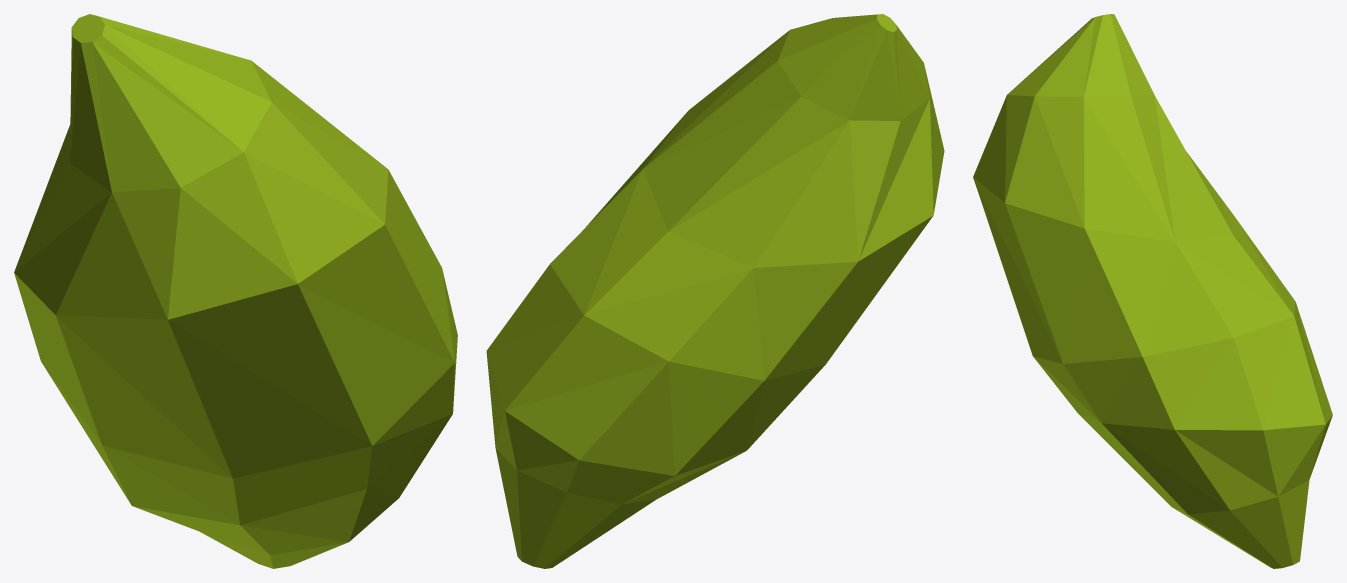
File: Vegetation_Modular_Tree_Foliage_Clump_Small_10.fbx
3 views of the same model, side by side, from view 1: azimuth 30°, elevation 25°; view 2: azimuth 150°, elevation 25°; view 3: azimuth 270°, elevation 25° (orthographic). The views are drawn at different scales.
Parts seen in each view (by area): view 1: Vegetation_Modular_Tree_Foliage_Clump_Small_10; view 2: Vegetation_Modular_Tree_Foliage_Clump_Small_10; view 3: Vegetation_Modular_Tree_Foliage_Clump_Small_10.
Part boxes in pixels (x1,y1,x2,y2): Vegetation_Modular_Tree_Foliage_Clump_Small_10: (14, 14, 457, 568); Vegetation_Modular_Tree_Foliage_Clump_Small_10: (486, 14, 944, 568); Vegetation_Modular_Tree_Foliage_Clump_Small_10: (973, 14, 1332, 568).
Bounding box in the file's own units: 962 × 1407 × 1010.
